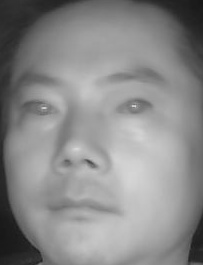eye: (112, 94, 154, 119), (18, 94, 58, 119)
mouth: (47, 188, 117, 227)
